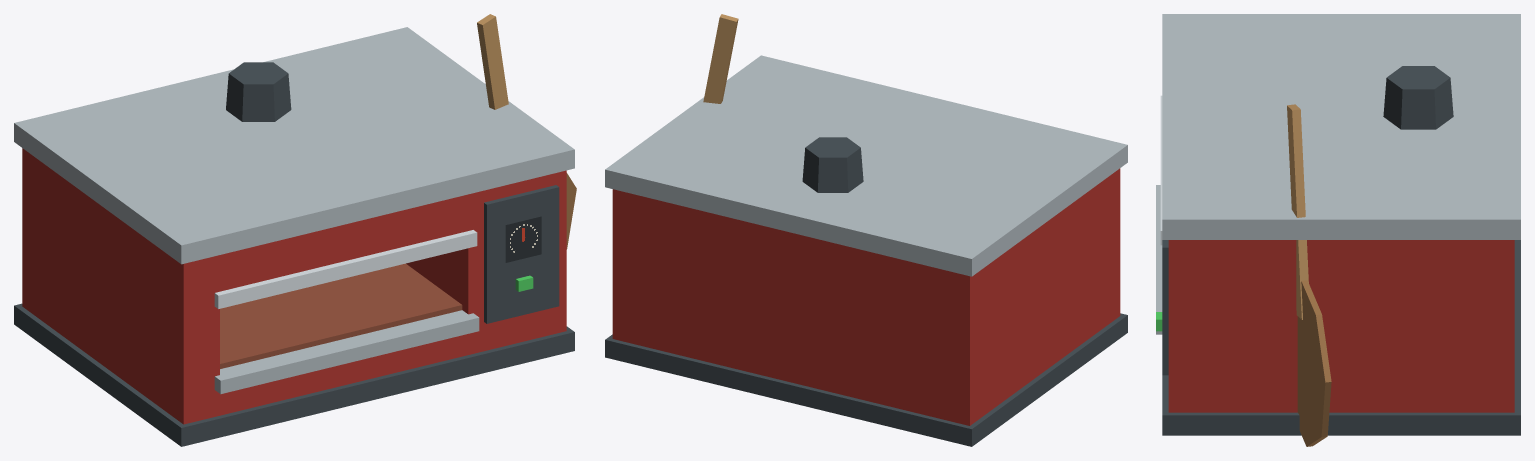
The model's file is pizza_oven.glb.
3 views of the same model, side by side, from view 1: azimuth 30°, elevation 25°; view 2: azimuth 150°, elevation 25°; view 3: azimuth 270°, elevation 25° (orthographic). The views are drawn at different scales.
Parts seen in each view (by area): view 1: Oven_Body, Oven_Peel; view 2: Oven_Body, Oven_Peel; view 3: Oven_Body, Oven_Peel.
Part boxes in pixels (x1,y1,x2,y2): Oven_Body: [14, 27, 574, 446]; Oven_Peel: [477, 14, 576, 249]; Oven_Body: [605, 55, 1127, 446]; Oven_Peel: [703, 14, 738, 103]; Oven_Body: [1156, 14, 1520, 435]; Oven_Peel: [1287, 104, 1331, 446].
Bounding box in the file's own units: 0.911 × 0.5444 × 0.57.
1 material, 1 textured.
